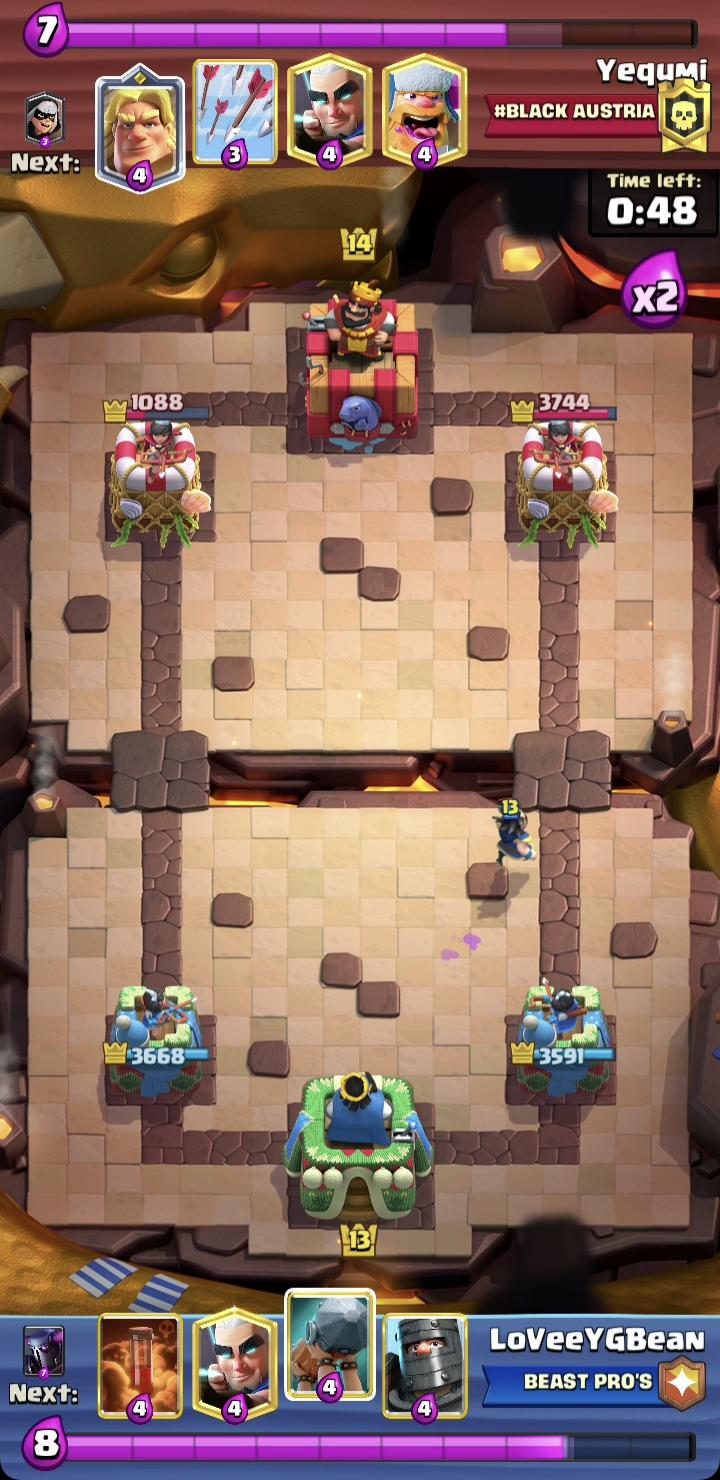ally_electro_wizard: (493, 799, 533, 868)
